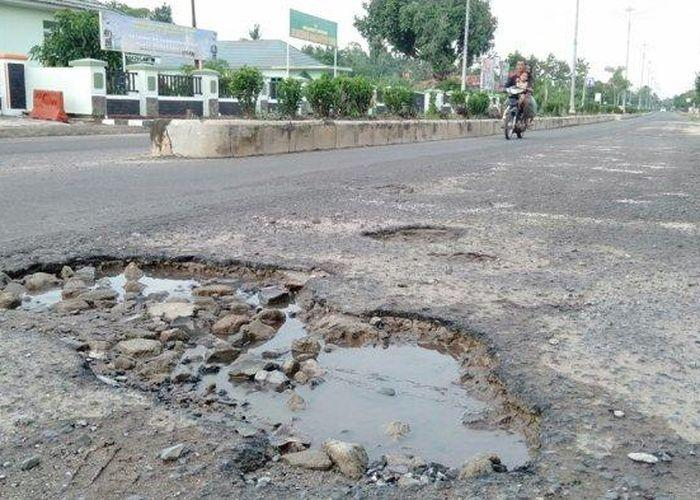Pothole: (0, 236, 533, 500), (329, 178, 554, 278)
